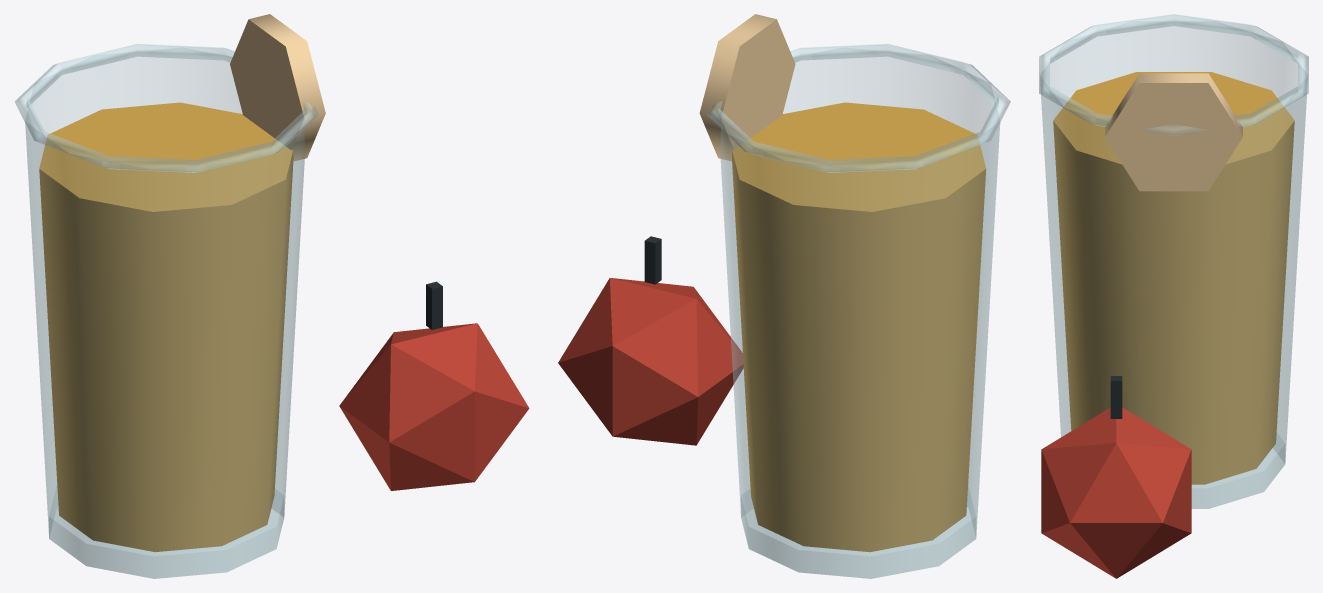
File: apple-juice.glb
3 renders of one model, left to right at view 1: azimuth 30°, elevation 25°; view 2: azimuth 150°, elevation 25°; view 3: azimuth 270°, elevation 25°, orthographic. The views are drawn at different scales.
Parts seen in each view (by area): view 1: apple-juice; view 2: apple-juice; view 3: apple-juice.
Part boxes in pixels (<box>): apple-juice: <box>15,14,529,578</box>; apple-juice: <box>558,14,1010,578</box>; apple-juice: <box>1039,14,1308,578</box>.
Size of the model in its own units: 0.1226 by 0.1256 by 0.0704.
